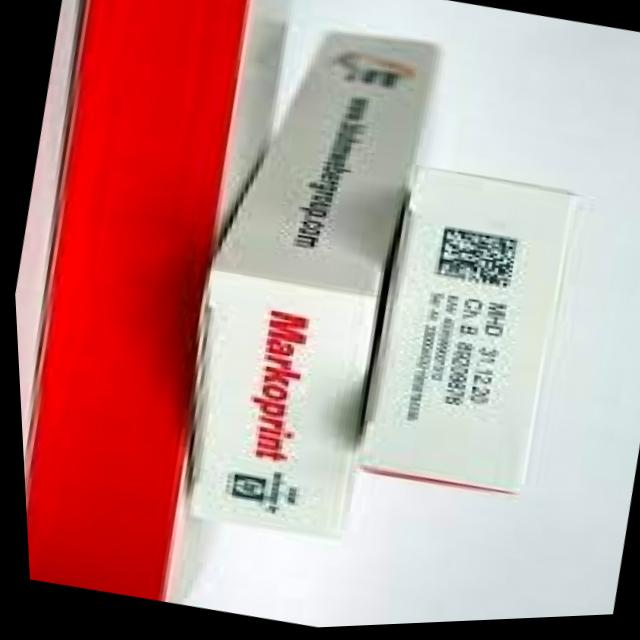datamatrix: (423, 222, 524, 301)
